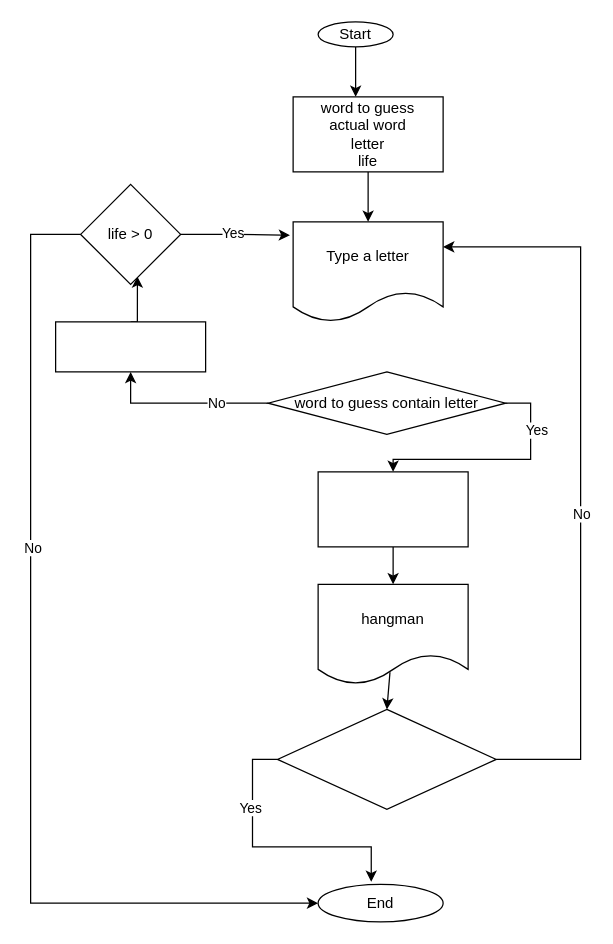
Image size: 613x944. Some labels were removed from this diagram. Here are the shapes that lost their labels. From the top down, the centre of each, then its label:
At [130,346]: "life = life - 1".
At [392,509]: "actual word = actual word + letter".
At [386,758]: "word to guess == actual word".
